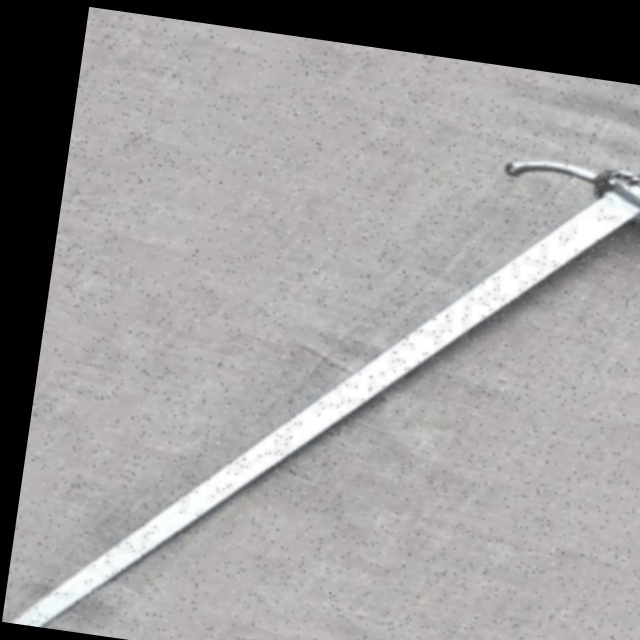Sharp-Object: (19, 11, 640, 640)
